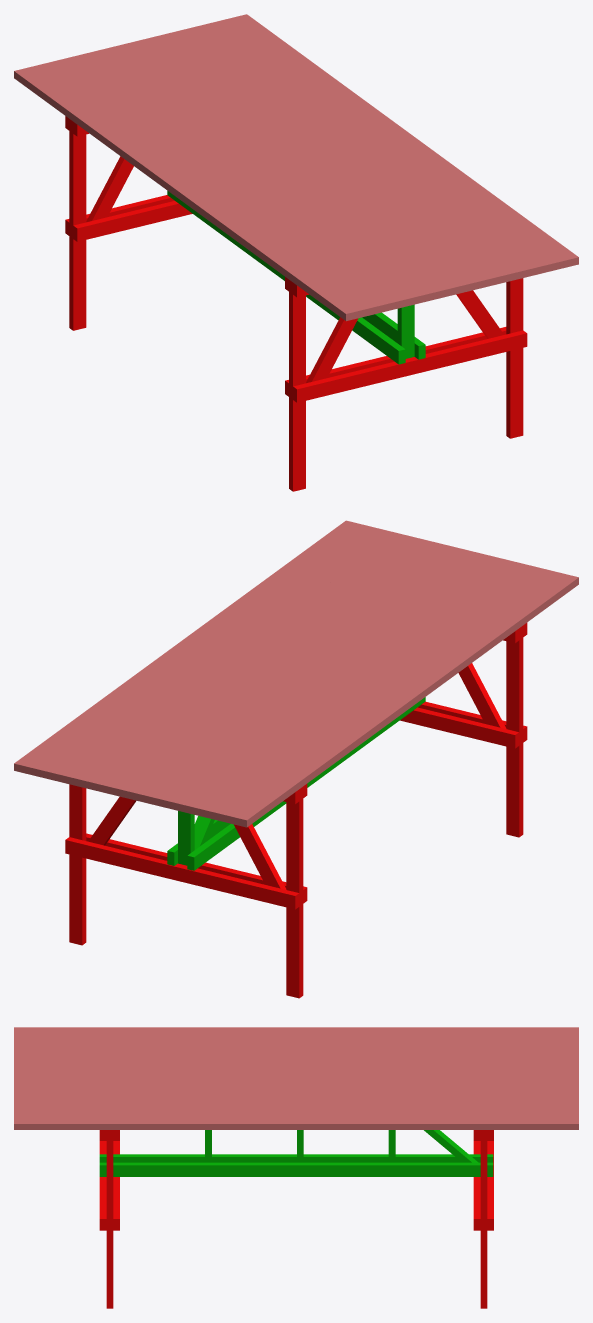
Rendered from result.glb.
3 views of the same model, one above another, from view 1: azimuth 30°, elevation 25°; view 2: azimuth 150°, elevation 25°; view 3: azimuth 270°, elevation 25° (orthographic). The views are drawn at different scales.
Parts seen in each view (by area): view 1: 4aba6f51-ec39-46f9-9b4d-b07a14b0cd5b__Box, 98db7a27-4f9e-4f0a-a01b-2ab08eddadc6__undefined, bdfaf2f3-0fa1-4dd0-a6bd-b0d4ad147f1f__undefined, bbb01ba4-dc0e-4fb1-8243-afdd4c363158__undefined, 7efa65ab-2491-472a-866f-500be03765b5__undefined, cb0b2287-c064-4a5a-be56-d9042b264811__undefined, c79a490b-ddaa-4a37-ada0-f81b76994312__undefined, 454ea2a0-8ed8-495f-b1a1-f4f1d99dcea7__undefined, 3bb8ce0d-fc65-4473-ac20-1714a62664f0__undefined, 3a19b569-4f6d-4194-934d-7b01ed0e2c91__undefined, cff359a8-675c-4fcf-8fac-24c79552517c__undefined, fe39f010-fc35-4481-b40c-46c7900e4755__undefined (+19 smaller); view 2: 4aba6f51-ec39-46f9-9b4d-b07a14b0cd5b__Box, cff359a8-675c-4fcf-8fac-24c79552517c__undefined, 98db7a27-4f9e-4f0a-a01b-2ab08eddadc6__undefined, bdfaf2f3-0fa1-4dd0-a6bd-b0d4ad147f1f__undefined, 454ea2a0-8ed8-495f-b1a1-f4f1d99dcea7__undefined, 3bb8ce0d-fc65-4473-ac20-1714a62664f0__undefined, 7efa65ab-2491-472a-866f-500be03765b5__undefined, 3a19b569-4f6d-4194-934d-7b01ed0e2c91__undefined, cb0b2287-c064-4a5a-be56-d9042b264811__undefined, c79a490b-ddaa-4a37-ada0-f81b76994312__undefined, bbb01ba4-dc0e-4fb1-8243-afdd4c363158__undefined, fe39f010-fc35-4481-b40c-46c7900e4755__undefined (+18 smaller); view 3: 7da54084-ae29-4da2-817d-8a8e1c8a1cde__undefined, 8dff4e7f-e66b-40ce-95b1-ddd3a1204308__strutH, 4aba6f51-ec39-46f9-9b4d-b07a14b0cd5b__Box, 234234de-f1db-41eb-a381-51352f587a69__undefined, 9d113306-fb3f-4816-bd37-6428e1fa373c__undefined, d51c8b33-d65f-4c02-8901-336b34188588__undefined, 7efa65ab-2491-472a-866f-500be03765b5__undefined, 98db7a27-4f9e-4f0a-a01b-2ab08eddadc6__undefined, bdfaf2f3-0fa1-4dd0-a6bd-b0d4ad147f1f__undefined, 3a19b569-4f6d-4194-934d-7b01ed0e2c91__undefined, cb0b2287-c064-4a5a-be56-d9042b264811__undefined, c79a490b-ddaa-4a37-ada0-f81b76994312__undefined (+15 smaller).
Part boxes in pixels (x1=…): 4aba6f51-ec39-46f9-9b4d-b07a14b0cd5b__Box: x1=14, y1=68, x2=358, y2=321; 98db7a27-4f9e-4f0a-a01b-2ab08eddadc6__undefined: x1=79, y1=52, x2=423, y2=305; bdfaf2f3-0fa1-4dd0-a6bd-b0d4ad147f1f__undefined: x1=92, y1=49, x2=436, y2=302; bbb01ba4-dc0e-4fb1-8243-afdd4c363158__undefined: x1=156, y1=33, x2=501, y2=286; 7efa65ab-2491-472a-866f-500be03765b5__undefined: x1=66, y1=55, x2=410, y2=308; cb0b2287-c064-4a5a-be56-d9042b264811__undefined: x1=118, y1=42, x2=462, y2=295; c79a490b-ddaa-4a37-ada0-f81b76994312__undefined: x1=131, y1=39, x2=475, y2=292; 454ea2a0-8ed8-495f-b1a1-f4f1d99dcea7__undefined: x1=143, y1=36, x2=488, y2=289; 3bb8ce0d-fc65-4473-ac20-1714a62664f0__undefined: x1=183, y1=27, x2=527, y2=279; 3a19b569-4f6d-4194-934d-7b01ed0e2c91__undefined: x1=105, y1=46, x2=449, y2=298; cff359a8-675c-4fcf-8fac-24c79552517c__undefined: x1=169, y1=30, x2=514, y2=283; fe39f010-fc35-4481-b40c-46c7900e4755__undefined: x1=195, y1=23, x2=540, y2=276; 4aba6f51-ec39-46f9-9b4d-b07a14b0cd5b__Box: x1=234, y1=574, x2=578, y2=827; cff359a8-675c-4fcf-8fac-24c79552517c__undefined: x1=78, y1=536, x2=423, y2=789; 98db7a27-4f9e-4f0a-a01b-2ab08eddadc6__undefined: x1=169, y1=558, x2=513, y2=811; bdfaf2f3-0fa1-4dd0-a6bd-b0d4ad147f1f__undefined: x1=156, y1=555, x2=500, y2=808; 454ea2a0-8ed8-495f-b1a1-f4f1d99dcea7__undefined: x1=104, y1=542, x2=448, y2=795; 3bb8ce0d-fc65-4473-ac20-1714a62664f0__undefined: x1=65, y1=533, x2=410, y2=786; 7efa65ab-2491-472a-866f-500be03765b5__undefined: x1=182, y1=561, x2=526, y2=814; 3a19b569-4f6d-4194-934d-7b01ed0e2c91__undefined: x1=143, y1=552, x2=487, y2=805; cb0b2287-c064-4a5a-be56-d9042b264811__undefined: x1=130, y1=549, x2=474, y2=801; c79a490b-ddaa-4a37-ada0-f81b76994312__undefined: x1=117, y1=545, x2=461, y2=798; bbb01ba4-dc0e-4fb1-8243-afdd4c363158__undefined: x1=91, y1=539, x2=436, y2=792; fe39f010-fc35-4481-b40c-46c7900e4755__undefined: x1=52, y1=530, x2=397, y2=783; 7da54084-ae29-4da2-817d-8a8e1c8a1cde__undefined: x1=14, y1=1118, x2=578, y2=1129; 8dff4e7f-e66b-40ce-95b1-ddd3a1204308__strutH: x1=99, y1=1162, x2=493, y2=1176; 4aba6f51-ec39-46f9-9b4d-b07a14b0cd5b__Box: x1=14, y1=1027, x2=578, y2=1032; 234234de-f1db-41eb-a381-51352f587a69__undefined: x1=14, y1=1032, x2=578, y2=1037; 9d113306-fb3f-4816-bd37-6428e1fa373c__undefined: x1=14, y1=1038, x2=578, y2=1043; d51c8b33-d65f-4c02-8901-336b34188588__undefined: x1=14, y1=1043, x2=578, y2=1048; 7efa65ab-2491-472a-866f-500be03765b5__undefined: x1=14, y1=1048, x2=578, y2=1053; 98db7a27-4f9e-4f0a-a01b-2ab08eddadc6__undefined: x1=14, y1=1054, x2=578, y2=1059; bdfaf2f3-0fa1-4dd0-a6bd-b0d4ad147f1f__undefined: x1=14, y1=1059, x2=578, y2=1064; 3a19b569-4f6d-4194-934d-7b01ed0e2c91__undefined: x1=14, y1=1065, x2=578, y2=1070; cb0b2287-c064-4a5a-be56-d9042b264811__undefined: x1=14, y1=1070, x2=578, y2=1075; c79a490b-ddaa-4a37-ada0-f81b76994312__undefined: x1=14, y1=1075, x2=578, y2=1080.
Size of the model in its own units: 810 by 724 by 2000.
